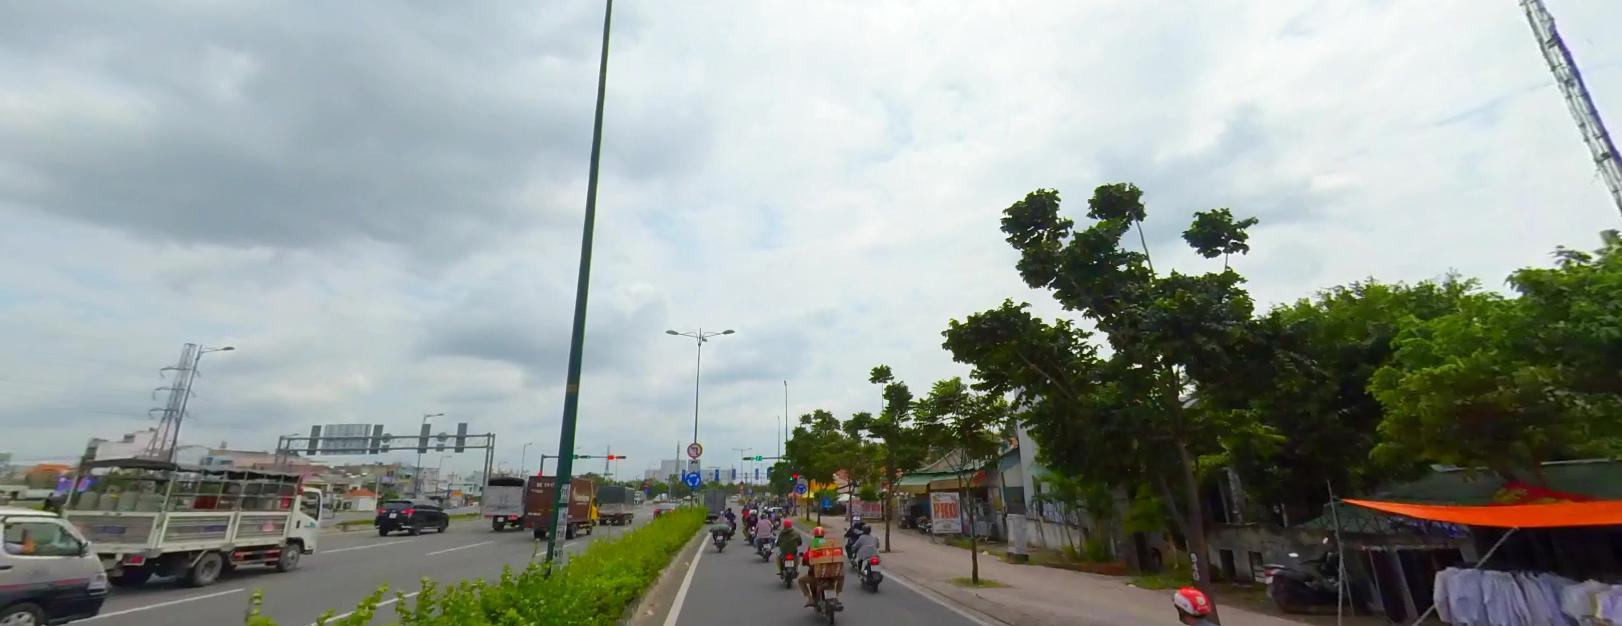Cam nguoc chieu: (643, 482, 648, 487)
Cam re: (686, 441, 704, 457)
Hieu lenh: (684, 471, 701, 487), (795, 482, 807, 493), (643, 487, 649, 492)
